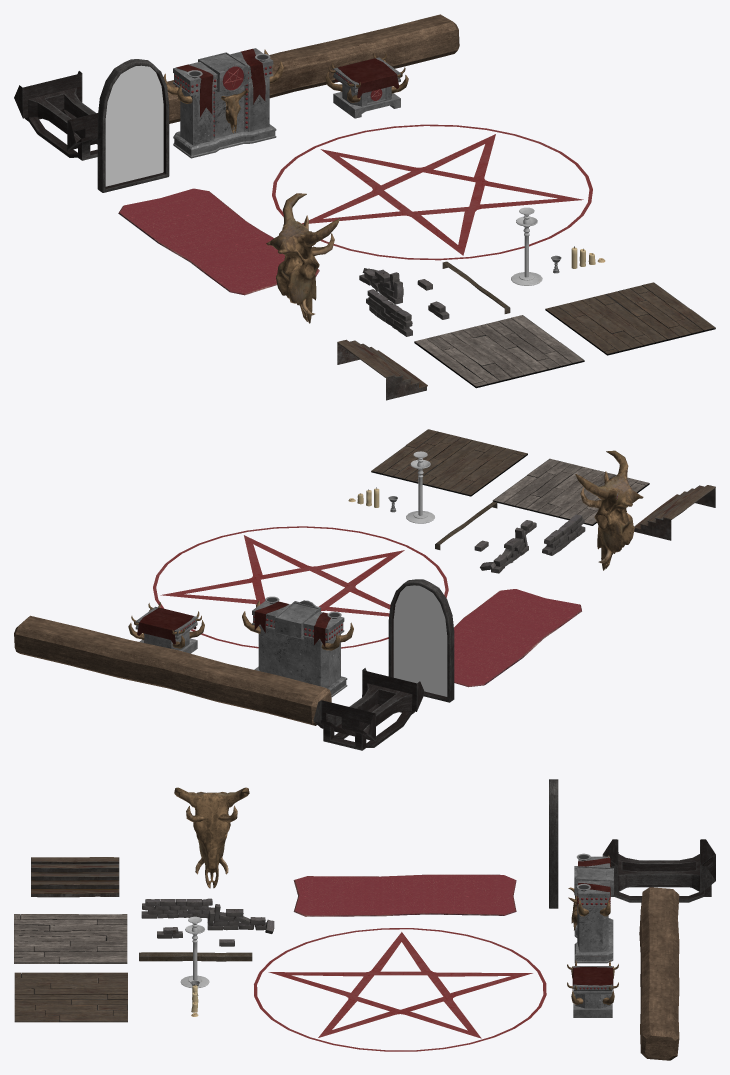
File: cult_asset_pack.glb
3 renders of one model, top to bottom at view 1: azimuth 30°, elevation 25°; view 2: azimuth 150°, elevation 25°; view 3: azimuth 270°, elevation 25°, orthographic. The views are drawn at different scales.
Parts seen in each view (by area): view 1: Plane.007, Cube.080, Cube.104, Cube.107, Cylinder.035, Cube.101, Cube.103, Cube.106, Cube.096, Plane.005, Cube.094, Cube.100 (+2 smaller); view 2: Cube.107, Plane.007, Cube.080, Cube.104, Cube.101, Cube.106, Cylinder.035, Cube.103, Cube.096, Plane.005, Cube.094, Cube.100 (+2 smaller); view 3: Plane.007, Cube.107, Cylinder.035, Cube.101, Cube.103, Cube.080, Cube.106, Cube.094, Cube.096, Plane.005, Cube.100, Cube.104 (+3 smaller).
Part boxes in pixels (box(x1,y1,x2,y2)): Plane.007: box(118, 188, 319, 295); Cube.080: box(163, 48, 283, 158); Cube.104: box(97, 59, 169, 192); Cube.107: box(167, 14, 459, 123); Cylinder.035: box(272, 124, 592, 260); Cube.101: box(545, 282, 715, 355); Cube.103: box(414, 315, 584, 388); Cube.106: box(14, 71, 97, 160); Cube.096: box(266, 193, 340, 323); Plane.005: box(325, 52, 408, 118); Cube.094: box(337, 339, 427, 400); Cube.100: box(366, 289, 412, 336); Cube.107: box(14, 615, 331, 725); Plane.007: box(454, 589, 581, 687); Cube.080: box(242, 596, 353, 697); Cube.104: box(388, 579, 454, 702); Cube.101: box(371, 429, 527, 496); Cube.106: box(313, 668, 424, 750); Cylinder.035: box(153, 526, 448, 648); Cube.103: box(492, 458, 649, 525); Cube.096: box(575, 450, 643, 570); Plane.005: box(128, 602, 204, 653); Cube.094: box(634, 485, 715, 540); Cube.100: box(542, 514, 585, 555); Plane.007: box(293, 874, 516, 916); Cube.107: box(639, 887, 679, 1060); Cylinder.035: box(254, 928, 546, 1051); Cube.101: box(14, 972, 127, 1022); Cube.103: box(14, 914, 127, 963); Cube.080: box(568, 853, 613, 963); Cube.106: box(602, 839, 715, 902); Cube.094: box(31, 857, 119, 897); Cube.096: box(174, 787, 249, 888); Plane.005: box(567, 960, 618, 1017); Cube.100: box(141, 898, 214, 918); Cube.104: box(549, 779, 558, 908).
Size of the model in its own units: 7.91 by 2.19 by 12.4.
Materials: 6 (5 with a texture image).
